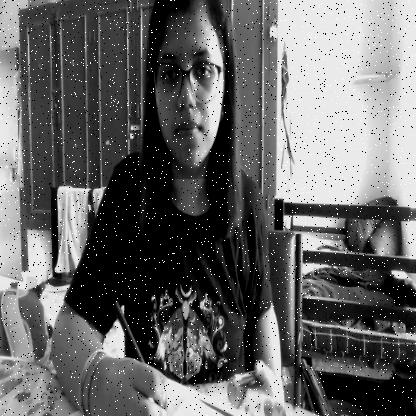Normal: (149, 0, 228, 179)
